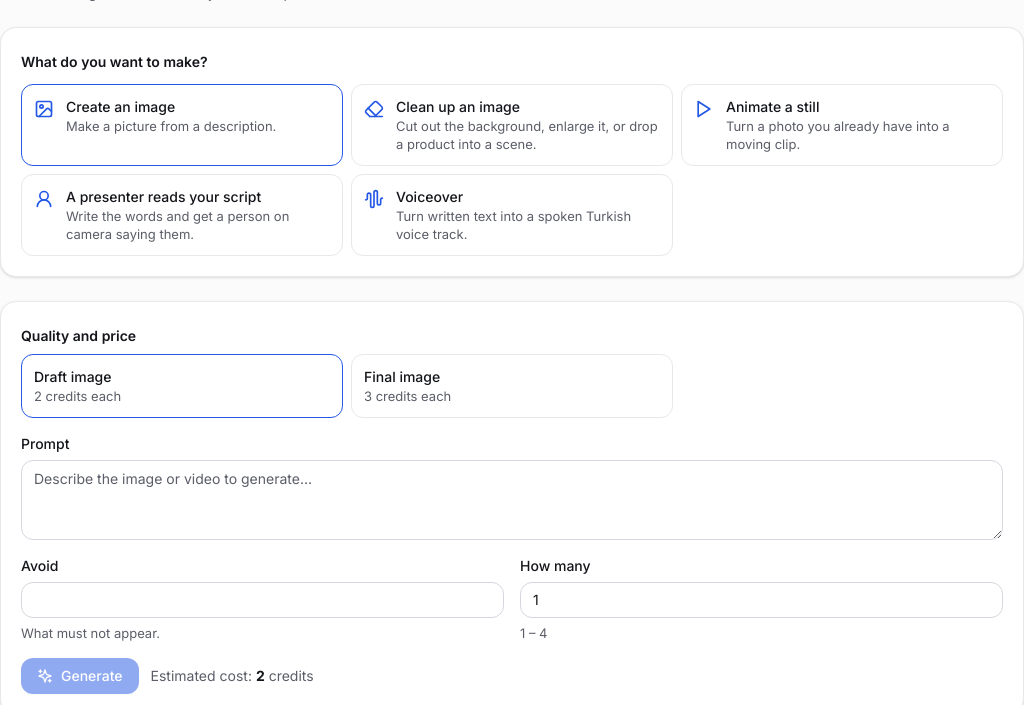
Test: AiStudioPage — technique-first, contract-driven panel › a technique needing source media asks for it and will not generate without it
Click the button "Animate a still" at {"x": 842, "y": 125}, box [681, 84, 1003, 166]
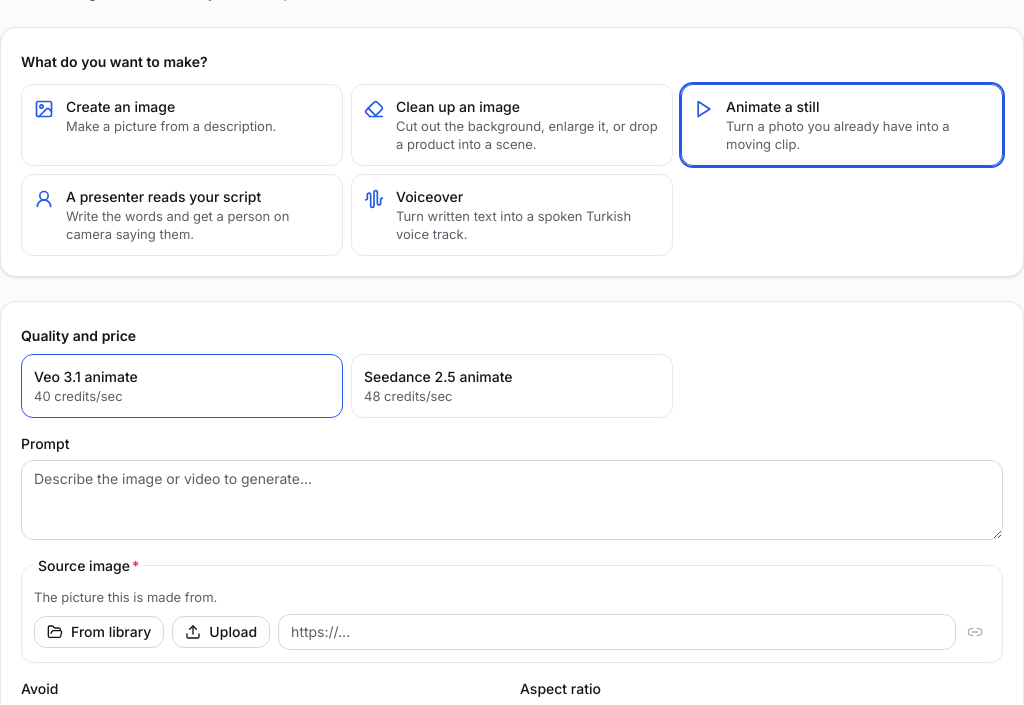
Type "pan left" into the text box labelled "Prompt" at {"x": 512, "y": 500}, box [21, 460, 1003, 540]
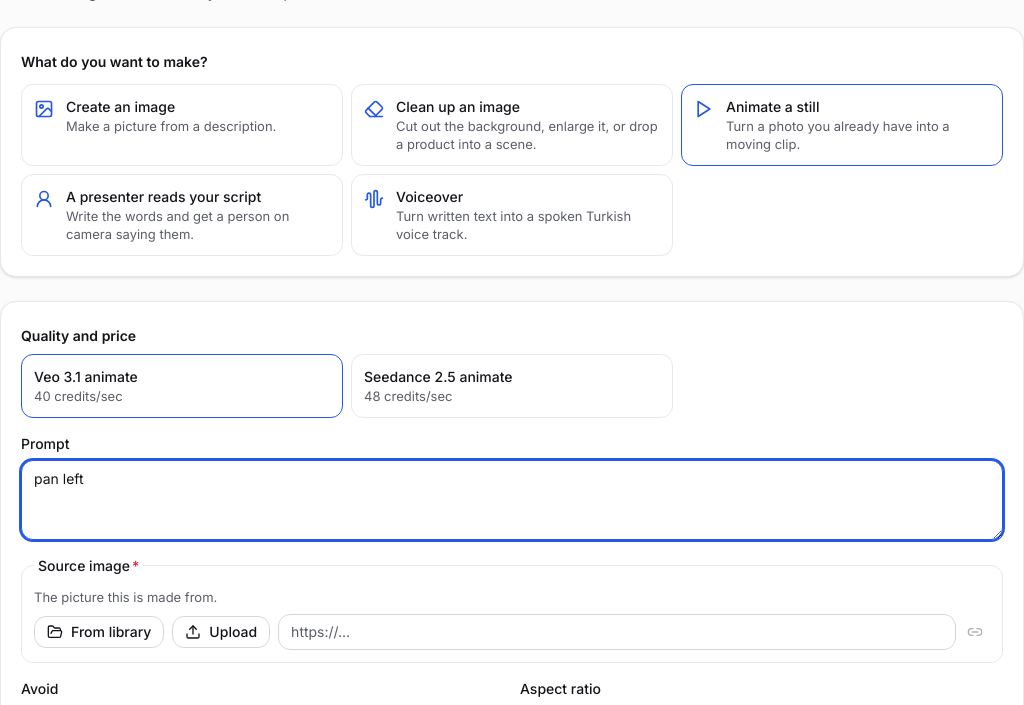
Type "https://r2/still.png" into the field named "paste a link" at {"x": 617, "y": 632}, box [278, 614, 956, 650]
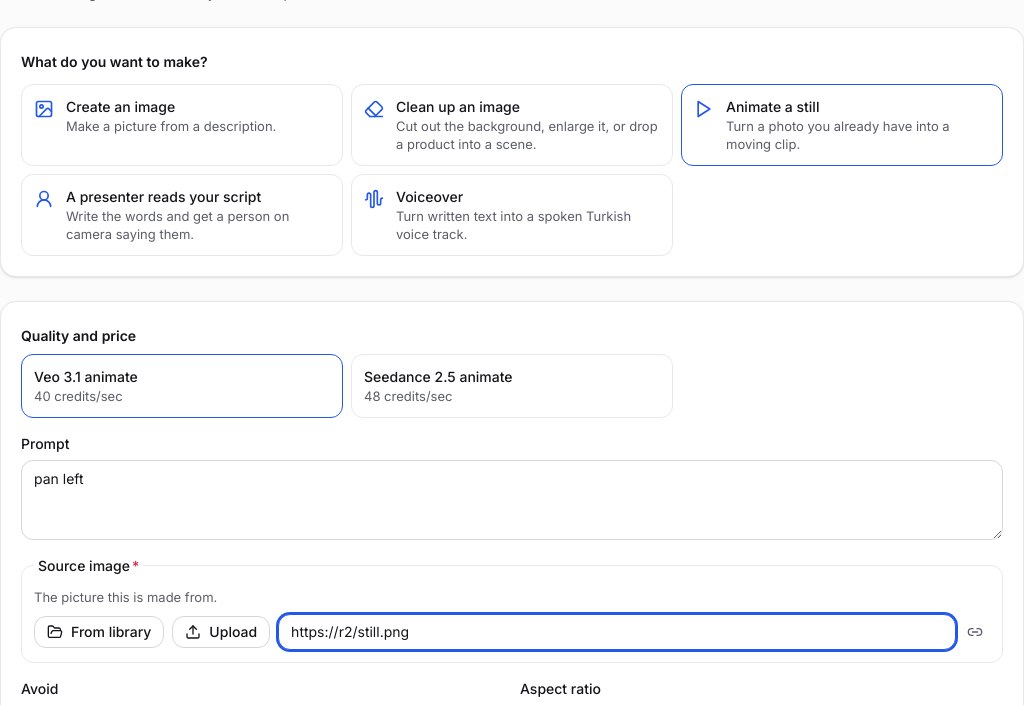
Click the button named "add link" at {"x": 975, "y": 632}, box [960, 616, 990, 648]
(page scrolled)
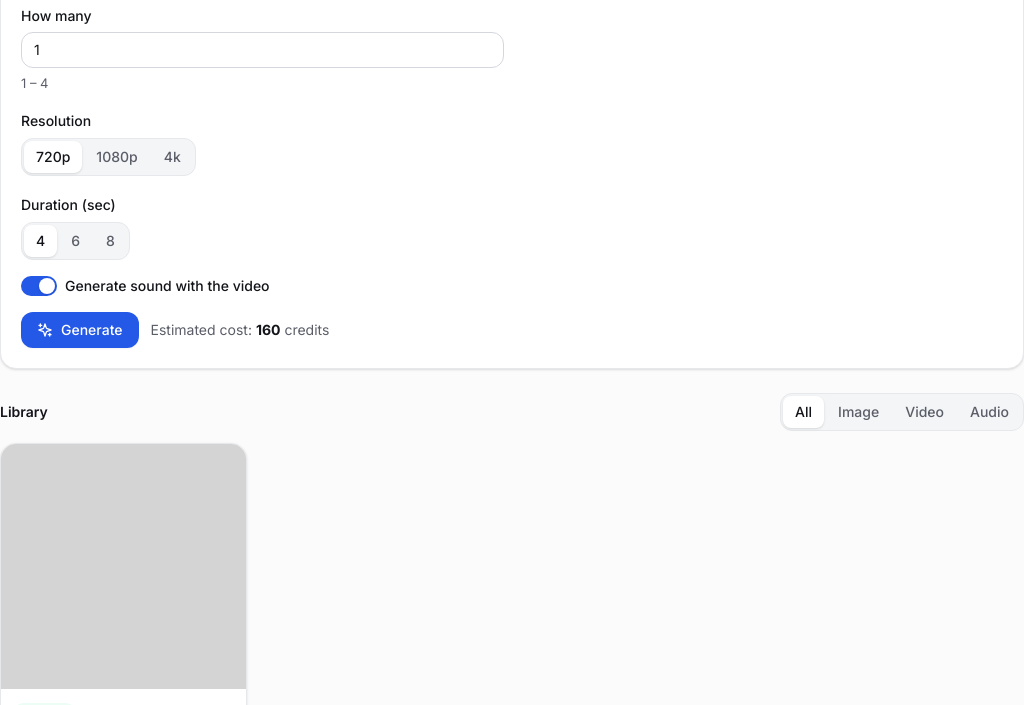
Now the button "Generate" is enabled, box [21, 312, 138, 348]
